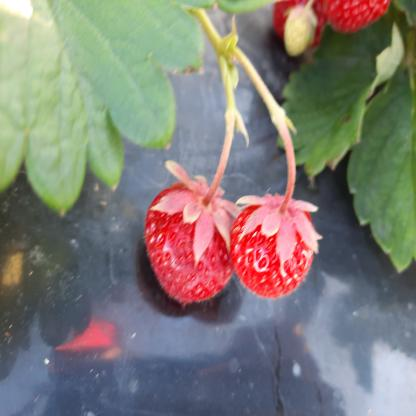ripe: (138, 170, 234, 318), (234, 194, 320, 298), (269, 3, 324, 66), (322, 0, 389, 38)
unripe: (281, 4, 321, 57)
